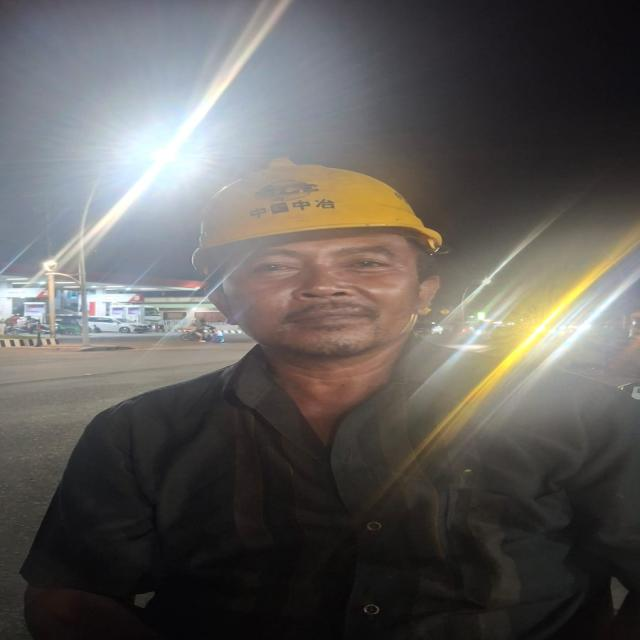safetyhelmet: (195, 155, 462, 316)
